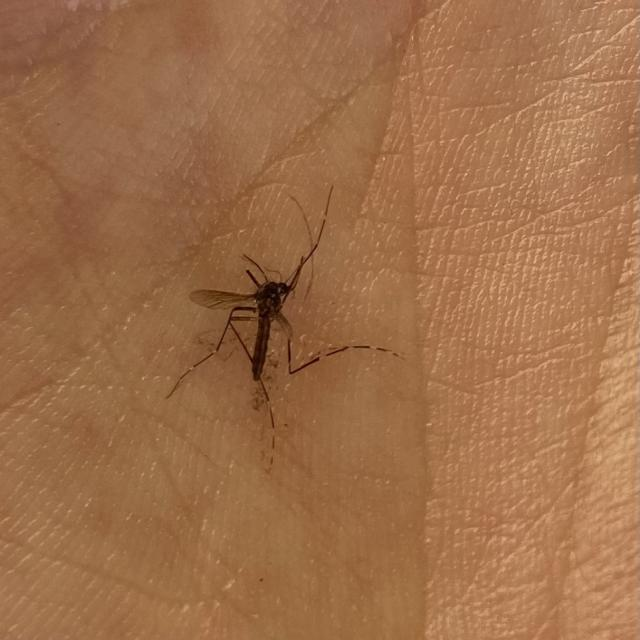albopictus: (169, 175, 405, 465)
